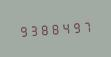eight: (39, 21, 49, 37), (50, 20, 60, 36)
four: (61, 19, 71, 35)
nine: (72, 18, 82, 35), (17, 22, 27, 38)
seven: (83, 18, 93, 34)
three: (28, 21, 38, 38)
